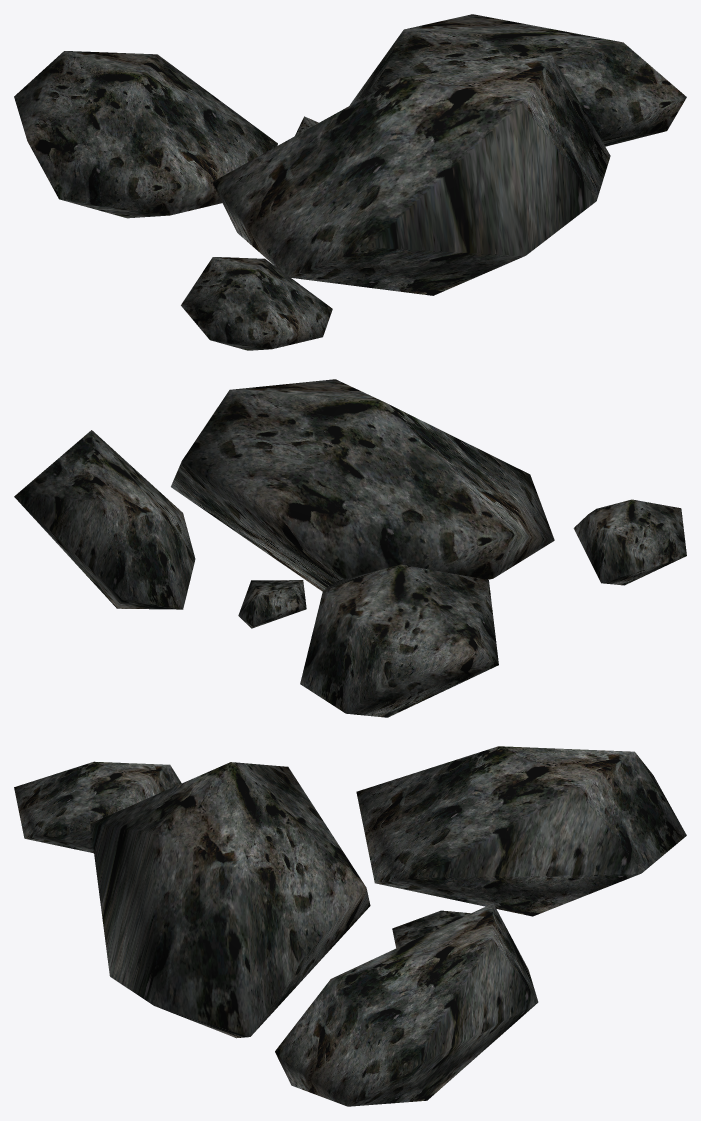
Rendered from rock_scorched_tiny_l1.fbx.
The picture shows the model from 3 angles, top to bottom: view 1: azimuth 30°, elevation 25°; view 2: azimuth 150°, elevation 25°; view 3: azimuth 270°, elevation 25°; orthographic projection. The views are drawn at different scales.
Parts seen in each view (by area): view 1: mesh_node; view 2: mesh_node; view 3: mesh_node.
Boxes of the visible parts, bbox=[...] form: mesh_node: bbox=[14, 14, 686, 350]; mesh_node: bbox=[14, 379, 686, 717]; mesh_node: bbox=[14, 746, 686, 1106].
Bounding box in the file's own units: 1.7 × 0.6309 × 1.5.
Materials: 1 (1 with a texture image).
